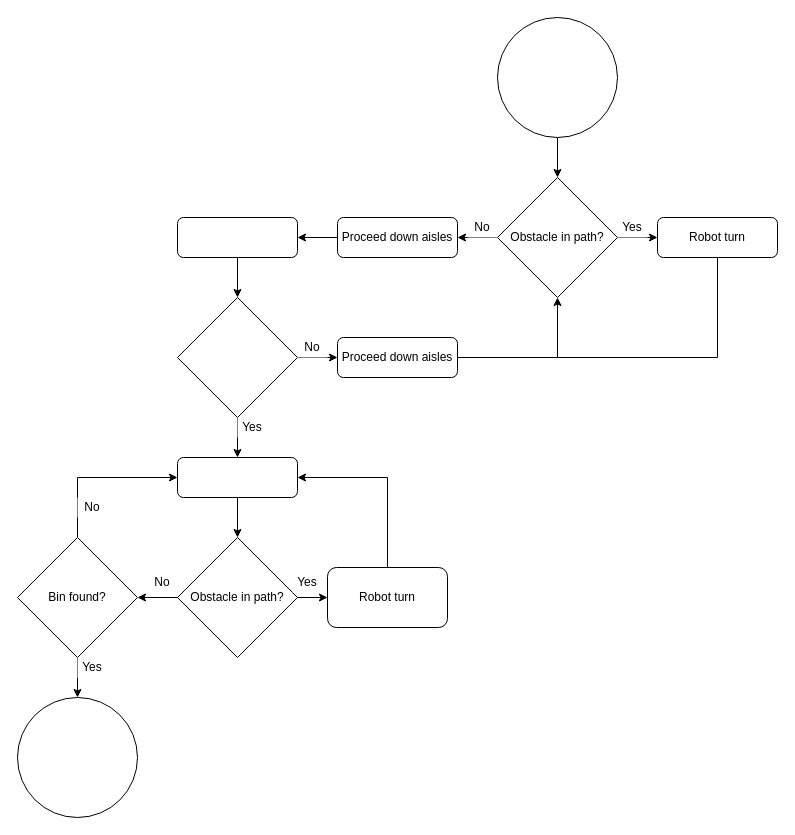
Image size: 795x835. Some labels were removed from this diagram. The shapes that lost their labels are listed below. From the top down, each one's centre as x and y in pixels, then its label:
pixel 557 77: Guide customer to item after item location and AprilTag identified (Software)
pixel 237 237: Scan April Tag of aisle
pixel 237 357: April Tag match?
pixel 237 477: Proceed to bin
pixel 77 757: Output item found message (Software)
